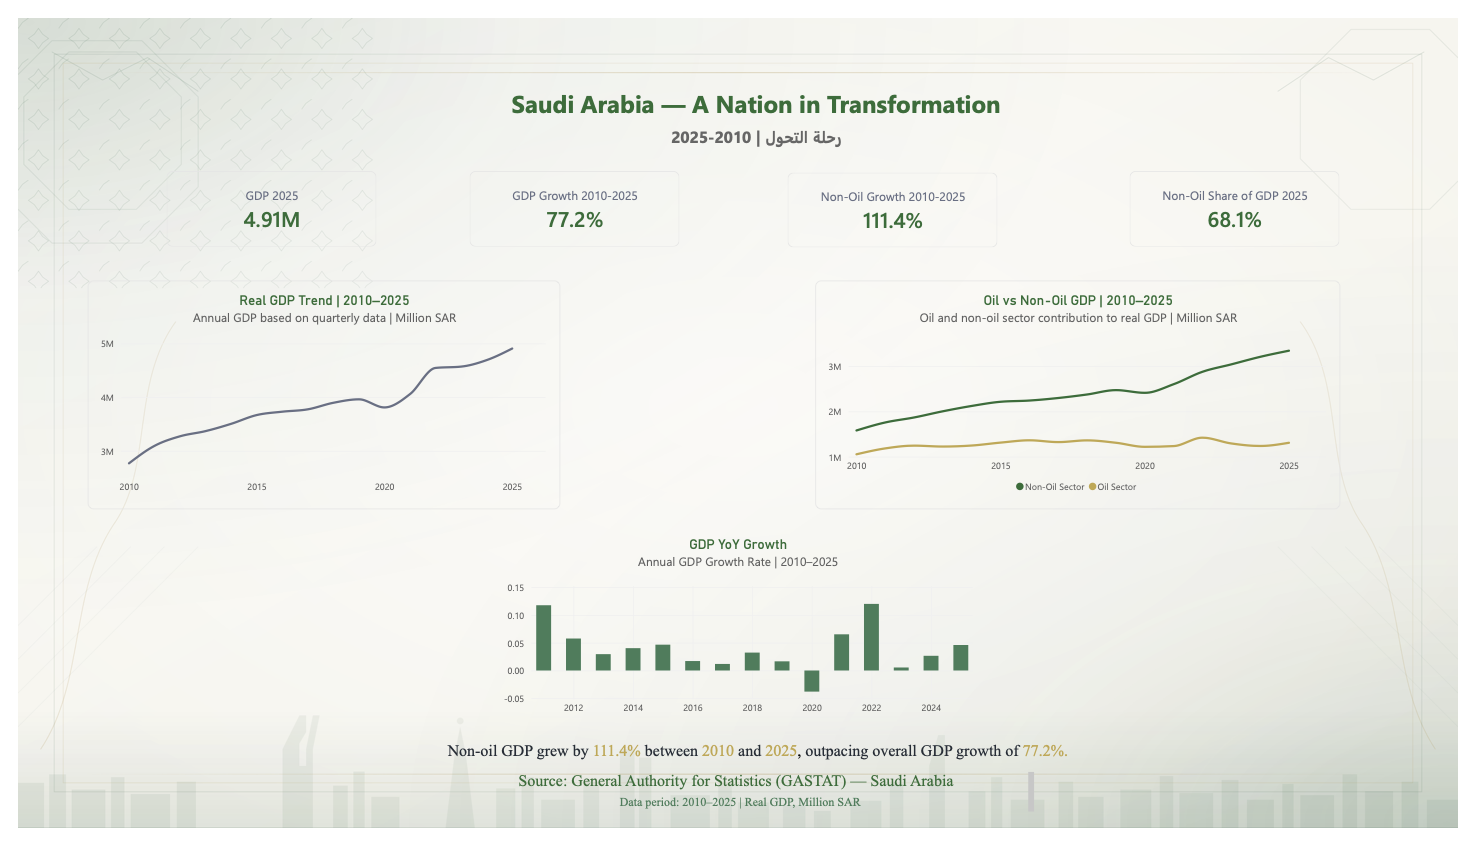

The dashboard page shown, as its layout file describes it:
{"tool":"powerbi","page":{"name":"Page 1","canvas":[1920,1080],"ordinal":0},"visuals":[{"type":"textbox","box":[337.5,91.2,1293.3,70],"z":0},{"type":"textbox","box":[835,142.5,300,42.5],"z":1000},{"type":"cardVisual","fields":{"Data":["Table1_1.GDP 2025"]},"box":[198,204,280,101.1],"z":2000},{"type":"cardVisual","fields":{"Data":["Table1_1.GDP Growth 2010-2025"]},"box":[602,204,280,101.1],"z":3000},{"type":"cardVisual","fields":{"Data":["Table1_1.Non-Oil Growth 2010-2025"]},"box":[1026,206,280,100],"z":4000},{"type":"cardVisual","fields":{"Data":["Table1_1.Non-Oil Share of GDP 2025"]},"box":[1482,204,280,101.2],"z":5000},{"type":"lineChart","title":"Real GDP Trend | 2010–2025","fields":{"Category":["Table1_1.Year"],"Y":["Sum(Table1_1.Value)"]},"box":[92.5,350,630,305],"z":6000},{"type":"lineChart","title":"Oil vs Non-Oil GDP | 2010–2025","fields":{"Category":["Table1_1.Year"],"Series":["Table1_1.Sector English"],"Y":["Sum(Table1_1.Value)"]},"box":[1062.5,350,700,305],"z":7000},{"type":"clusteredColumnChart","title":"GDP YoY Growth","fields":{"Category":["Table1_1.Year"],"Y":["Table1_1.GDP YoY Growth %"]},"box":[632,676,656.7,271.7],"z":8000},{"type":"textbox","box":[835,305,300,150],"z":9000},{"type":"textbox","box":[275,965,1418.3,40],"z":10000},{"type":"textbox","box":[567.5,1005,787.5,57.5],"z":11000},{"type":"textbox","box":[692.5,1035,540,37.5],"z":12000}]}

Visuals, with their boxes in screenshot pixels (x1, y1, x2, y2), scaled from the page's 1920x1080 canvas onto the 1476x846 screenshot:
textbox: {"x1": 259, "y1": 71, "x2": 1254, "y2": 126}
textbox: {"x1": 642, "y1": 112, "x2": 873, "y2": 145}
cardVisual - Table1_1.GDP 2025: {"x1": 152, "y1": 160, "x2": 367, "y2": 239}
cardVisual - Table1_1.GDP Growth 2010-2025: {"x1": 463, "y1": 160, "x2": 678, "y2": 239}
cardVisual - Table1_1.Non-Oil Growth 2010-2025: {"x1": 789, "y1": 161, "x2": 1004, "y2": 240}
cardVisual - Table1_1.Non-Oil Share of GDP 2025: {"x1": 1139, "y1": 160, "x2": 1355, "y2": 239}
"Real GDP Trend | 2010–2025" lineChart: {"x1": 71, "y1": 274, "x2": 555, "y2": 513}
"Oil vs Non-Oil GDP | 2010–2025" lineChart: {"x1": 817, "y1": 274, "x2": 1355, "y2": 513}
"GDP YoY Growth" clusteredColumnChart: {"x1": 486, "y1": 530, "x2": 991, "y2": 742}
textbox: {"x1": 642, "y1": 239, "x2": 873, "y2": 356}
textbox: {"x1": 211, "y1": 756, "x2": 1302, "y2": 787}
textbox: {"x1": 436, "y1": 787, "x2": 1042, "y2": 832}
textbox: {"x1": 532, "y1": 811, "x2": 947, "y2": 840}
